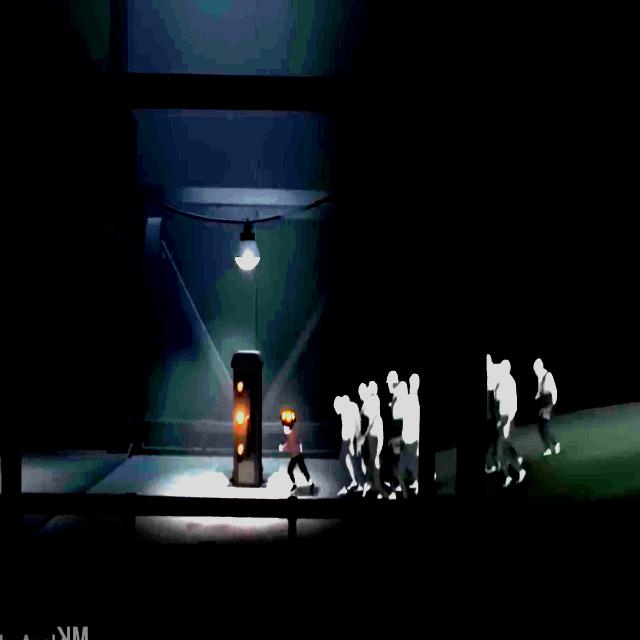boy: (280, 424, 314, 492)
zombie: (501, 359, 525, 486), (534, 358, 560, 457), (397, 381, 419, 491), (334, 396, 354, 495), (386, 370, 401, 490), (368, 394, 384, 499), (358, 383, 369, 497), (490, 365, 500, 473), (410, 374, 420, 394), (368, 382, 378, 394)
